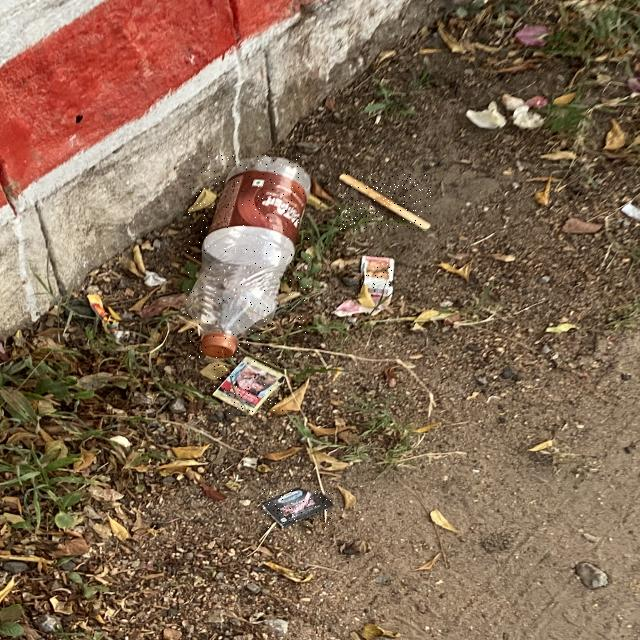biowaste: (339, 174, 431, 230)
paper: (213, 357, 284, 415), (363, 256, 393, 291)
plastic: (187, 155, 310, 358)
wrapper: (261, 489, 333, 528)
